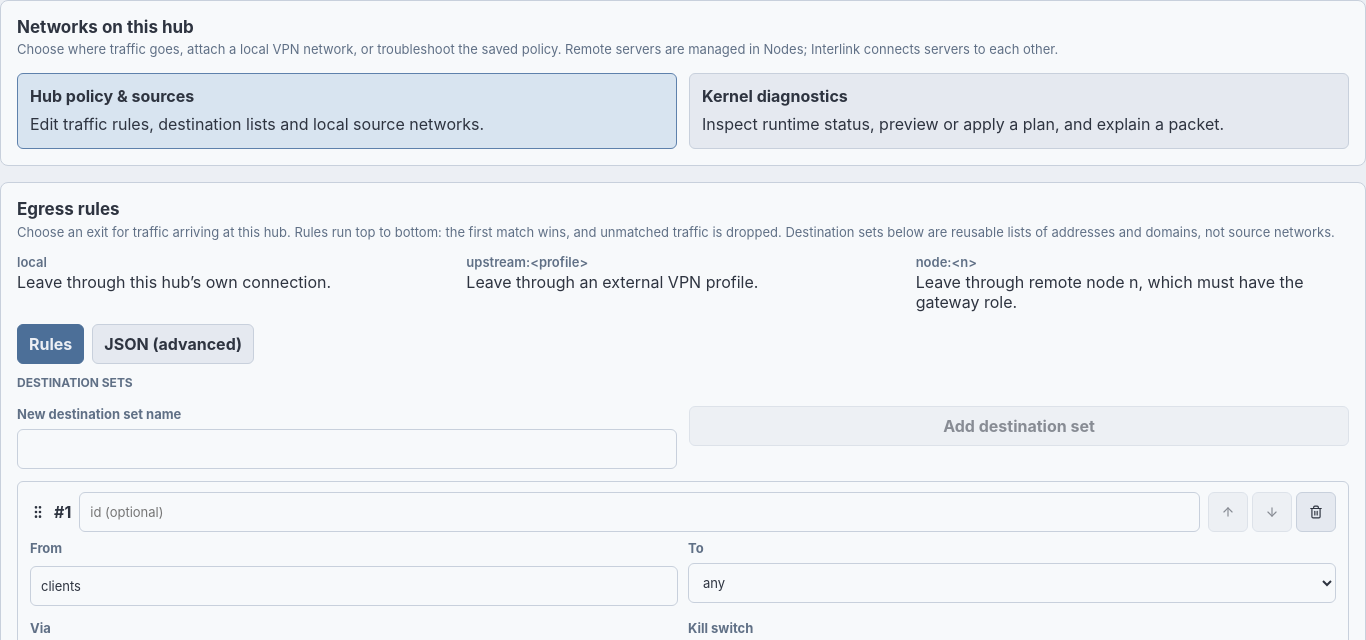
Networks hub tasks › starts with hub editing and only loads kernel diagnostics when requested
The width and height of the screenshot is (1366, 640).
Expected: the navigation bar named "Network tasks" is shown, top-left (17, 73), bottom-right (1349, 149)
Expected: the heading "Egress rules" is shown, top-left (17, 199), bottom-right (120, 219)
What coordinates should you click on to do the following:
click the button "Kernel diagnostics"
I would click on:
 (1019, 111)
Its box is top-left (689, 73), bottom-right (1349, 149).
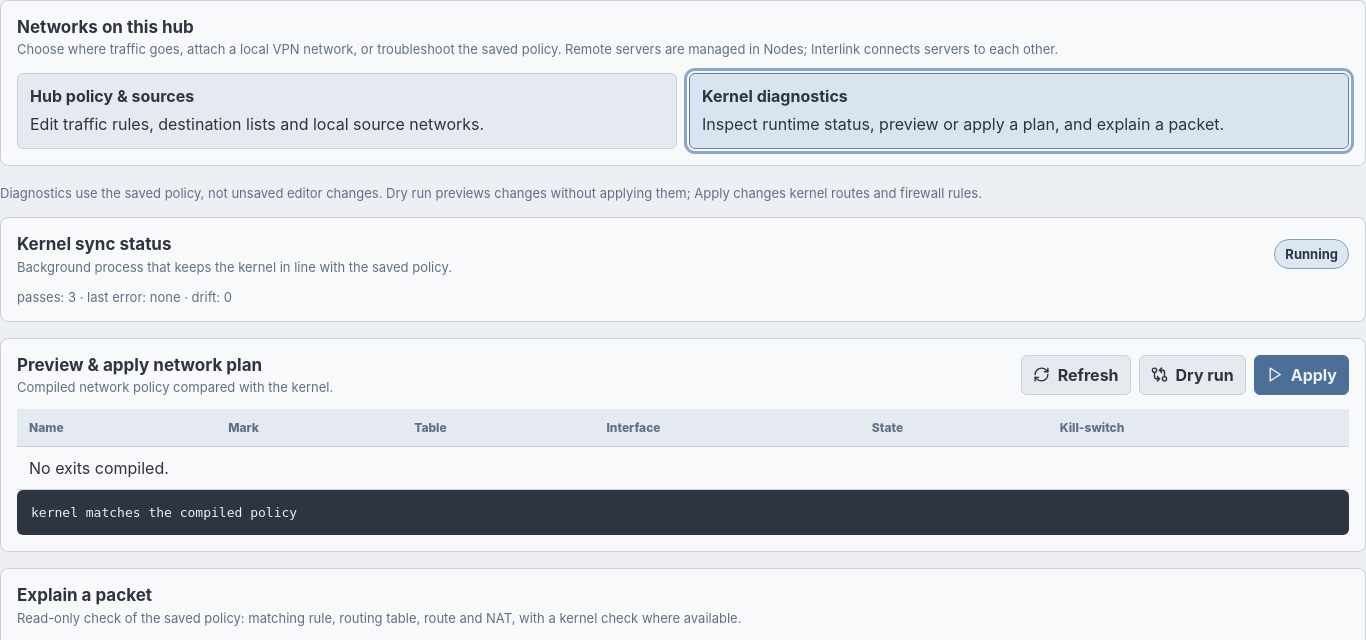
Now the heading "Preview & apply network plan" is shown, box top-left (17, 354), bottom-right (262, 374)
Now the heading "Explain a packet" is shown, box top-left (17, 585), bottom-right (152, 605)
Now the heading "Egress rules" is gone
